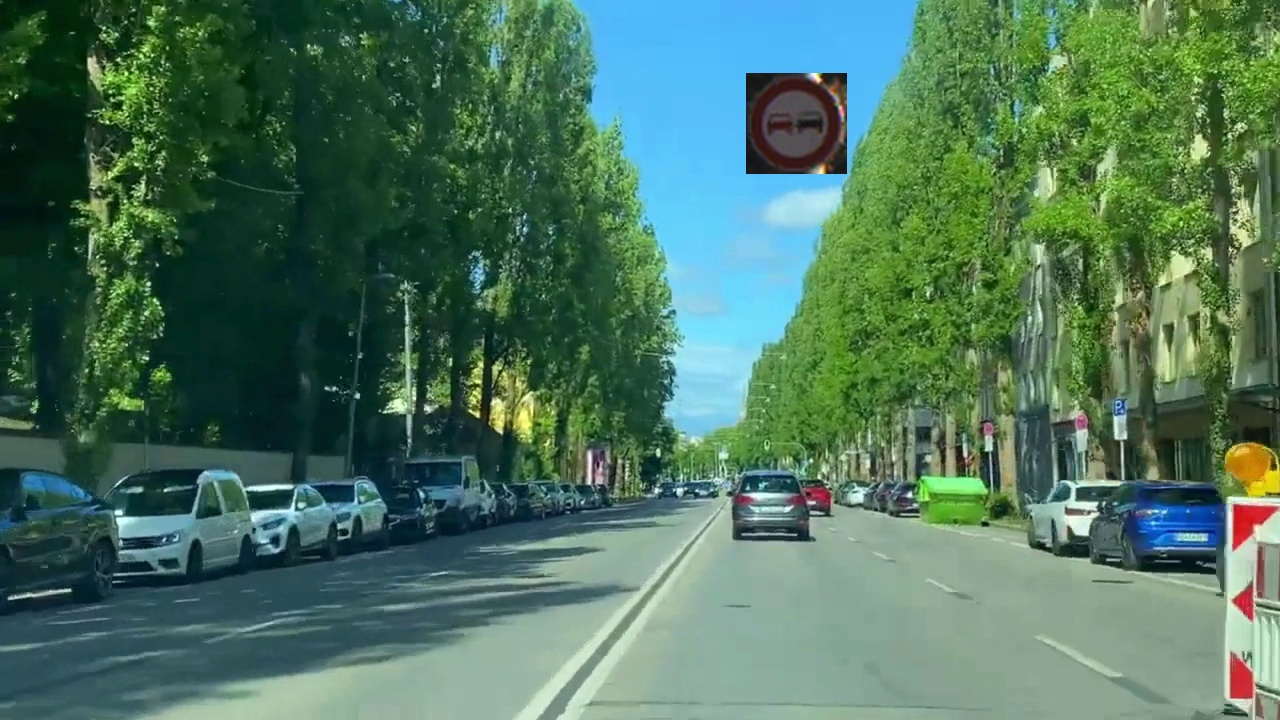No passing: (746, 73, 847, 174)
